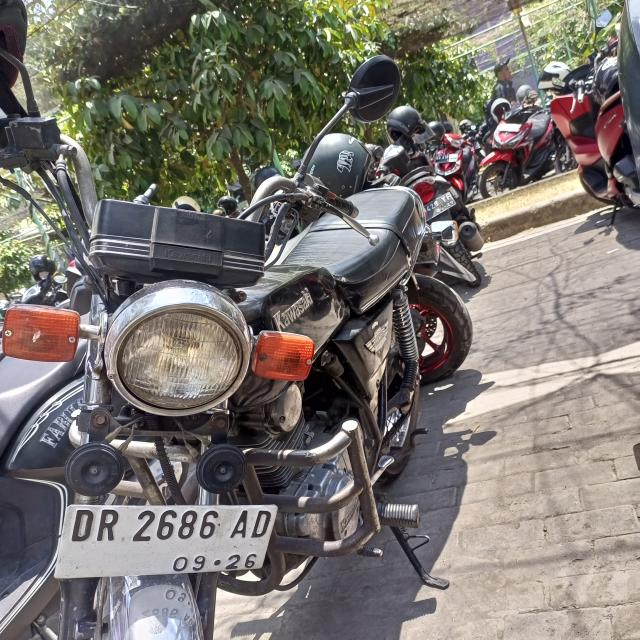plate: (52, 506, 280, 582)
